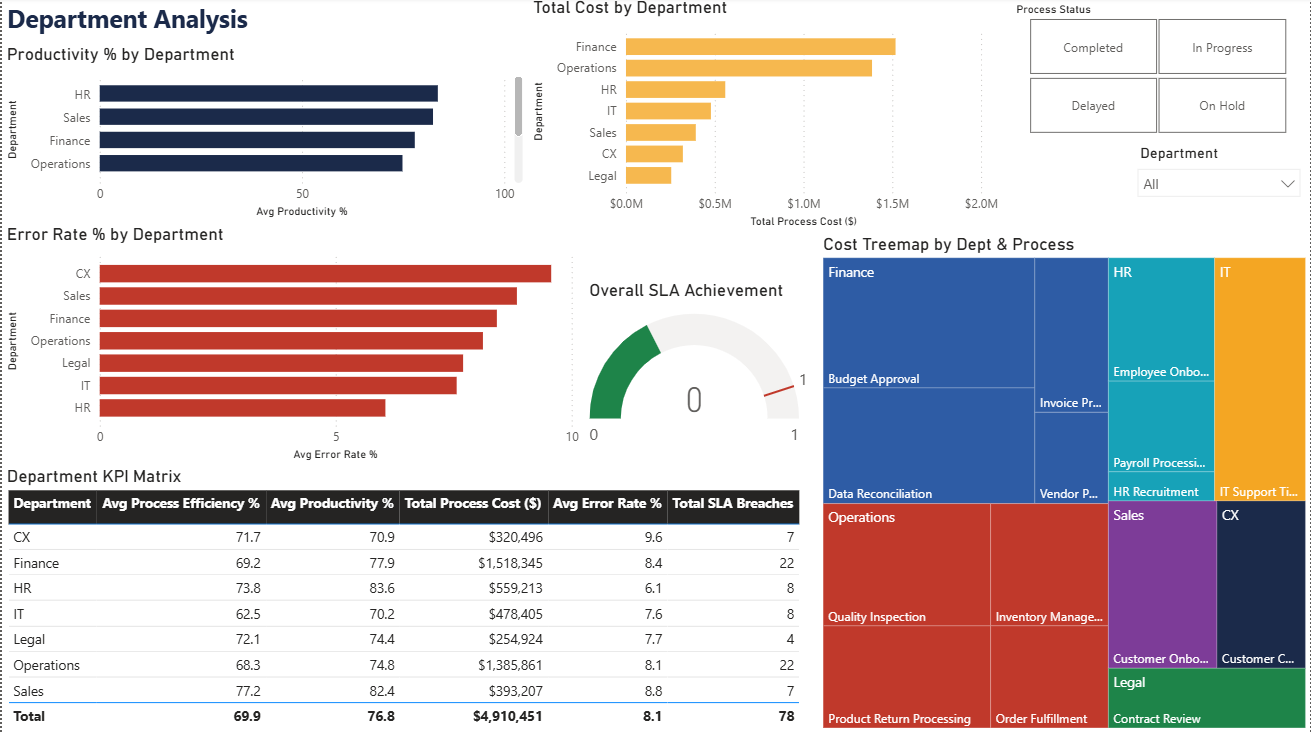

The dashboard page shown, as its layout file describes it:
{"tool":"powerbi","page":{"name":"Department Analysis","canvas":[1280,720],"ordinal":1},"visuals":[{"type":"slicer","title":"Filter by Department","fields":{"Values":["process_data.Department"]},"box":[1100.6,139.6,179.9,68.6],"z":0},{"type":"slicer","fields":{"Values":["process_data.Process Status"]},"box":[979.9,0,300.6,139.6],"z":1000},{"type":"clusteredBarChart","title":"Productivity % by Department","fields":{"Category":["process_data.Department"],"Y":["process_data.Avg Productivity %"]},"box":[0,45.3,514.6,175.6],"z":2000},{"type":"clusteredBarChart","title":"Total Cost by Department","fields":{"Category":["process_data.Department"],"Y":["process_data.Total Process Cost ($)"]},"box":[514.6,0,465.2,230.5],"z":3000},{"type":"clusteredBarChart","title":"Error Rate % by Department","fields":{"Category":["process_data.Department"],"Y":["process_data.Avg Error Rate %"]},"box":[0,220.9,569.5,237.4],"z":4000},{"type":"tableEx","title":"Department KPI Matrix","fields":{"Values":["process_data.Department","process_data.Avg Process Efficiency %","process_data.Avg Productivity %","process_data.Total Process Cost ($)","process_data.Avg Error Rate %","process_data.Total SLA Breaches"]},"box":[0,458.3,798.6,262.1],"z":5000},{"type":"gauge","title":"Overall SLA Achievement","fields":{"Y":["process_data.SLA Achievement Rate"]},"box":[569.8,276.4,228.7,182.2],"z":6000},{"type":"treemap","title":"Cost Treemap by Dept & Process","fields":{"Group":["process_data.Department"],"Details":["process_data.Process Name"],"Values":["process_data.Total Process Cost ($)"]},"box":[798.5,231.1,481.8,489.1],"z":7000},{"type":"textbox","box":[0,0,299.5,45.9],"z":7001}]}

Visuals, with their boxes in screenshot pixels (x1, y1, x2, y2), scaled from the page's 1280x720 canvas onto the 1311x733 screenshot:
"Filter by Department" slicer: locate(1127, 142, 1310, 212)
slicer - process_data.Process Status: locate(1004, 0, 1310, 142)
"Productivity % by Department" clusteredBarChart: locate(0, 46, 527, 225)
"Total Cost by Department" clusteredBarChart: locate(527, 0, 1004, 235)
"Error Rate % by Department" clusteredBarChart: locate(0, 225, 583, 467)
"Department KPI Matrix" tableEx: locate(0, 467, 818, 732)
"Overall SLA Achievement" gauge: locate(584, 281, 818, 467)
"Cost Treemap by Dept & Process" treemap: locate(818, 235, 1310, 732)
textbox: locate(0, 0, 307, 47)
